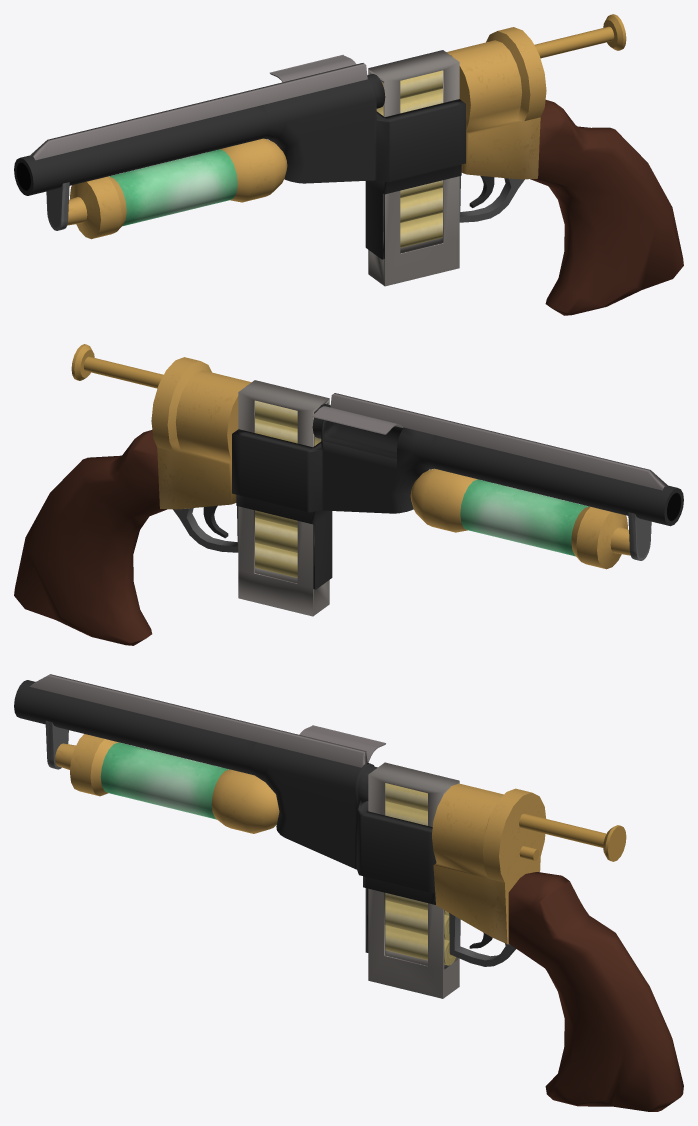
The model's file is SteamPunk_Revolver_low_updated.fbx.
3 views of the same model, one above another, from view 1: azimuth 30°, elevation 25°; view 2: azimuth 150°, elevation 25°; view 3: azimuth 330°, elevation 25° (orthographic).
Visible parts, largest first — view 1: Barrel_low, Grip_low, EnergyCylinder_low, FiringBlock_low, Magazine_low, Sight_low, Hammer_low, Casing6_low, Casing5_low, TriggerGuard_low, Cover_low, Support_low (+2 smaller); view 2: Barrel_low, Grip_low, EnergyCylinder_low, FiringBlock_low, Magazine_low, Sight_low, Hammer_low, Cover_low, Casing6_low, Casing5_low, TriggerGuard_low, Support_low (+2 smaller); view 3: Barrel_low, Grip_low, FiringBlock_low, EnergyCylinder_low, Magazine_low, Sight_low, Hammer_low, Casing6_low, Casing5_low, TriggerGuard_low, Cover_low, Casing_low (+1 smaller).
Boxes of the visible parts, box(x1,y1,x2,y2) form: Barrel_low: box(14, 74, 465, 259); Grip_low: box(530, 100, 683, 315); EnergyCylinder_low: box(67, 138, 287, 239); FiringBlock_low: box(446, 27, 546, 179); Magazine_low: box(368, 50, 459, 286); Sight_low: box(29, 63, 367, 160); Hammer_low: box(534, 14, 626, 58); Casing6_low: box(400, 212, 442, 247); Casing5_low: box(400, 188, 442, 222); TriggerGuard_low: box(459, 176, 524, 222); Cover_low: box(270, 54, 356, 82); Support_low: box(46, 182, 69, 230); Barrel_low: box(232, 404, 683, 589); Grip_low: box(14, 430, 166, 645); EnergyCylinder_low: box(410, 468, 630, 569); FiringBlock_low: box(151, 357, 251, 509); Magazine_low: box(238, 380, 329, 616); Sight_low: box(330, 393, 667, 490); Hammer_low: box(71, 344, 163, 388); Cover_low: box(311, 406, 403, 434); Casing6_low: box(255, 543, 297, 577); Casing5_low: box(255, 518, 297, 552); TriggerGuard_low: box(173, 506, 238, 552); Support_low: box(628, 512, 651, 560); Barrel_low: box(14, 680, 436, 952); Grip_low: box(508, 872, 683, 1111); FiringBlock_low: box(432, 783, 546, 944); EnergyCylinder_low: box(55, 734, 279, 833); Magazine_low: box(368, 762, 459, 998); Sight_low: box(30, 674, 367, 767); Hammer_low: box(519, 813, 626, 861); Casing6_low: box(385, 925, 455, 965); Casing5_low: box(385, 900, 449, 940); TriggerGuard_low: box(449, 913, 515, 966); Cover_low: box(299, 725, 385, 762); Casing_low: box(385, 783, 427, 811).
Bounding box in the file's own units: 61.26 × 26.54 × 7.69.
